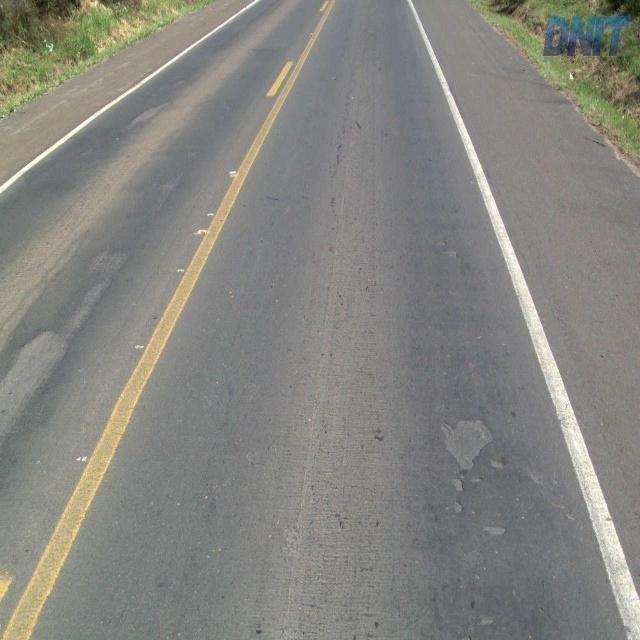pothole: (435, 409, 510, 537)
